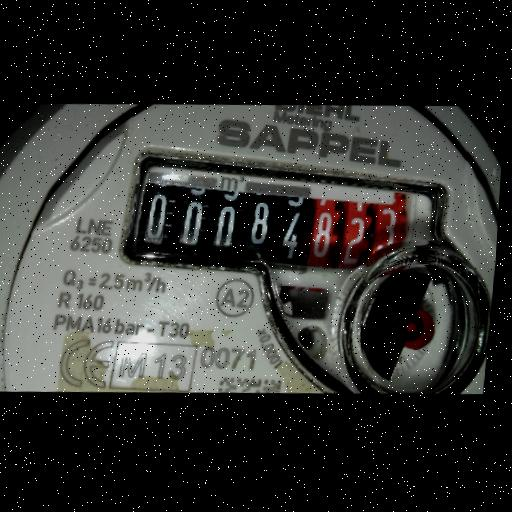0: (174, 185, 209, 253), (207, 189, 242, 257), (139, 185, 172, 249)
2: (339, 200, 369, 268)
3: (373, 202, 404, 254)
4: (275, 195, 309, 265)
8: (241, 191, 276, 260), (307, 198, 338, 268)
border_water_meter_number: (125, 153, 442, 295)
